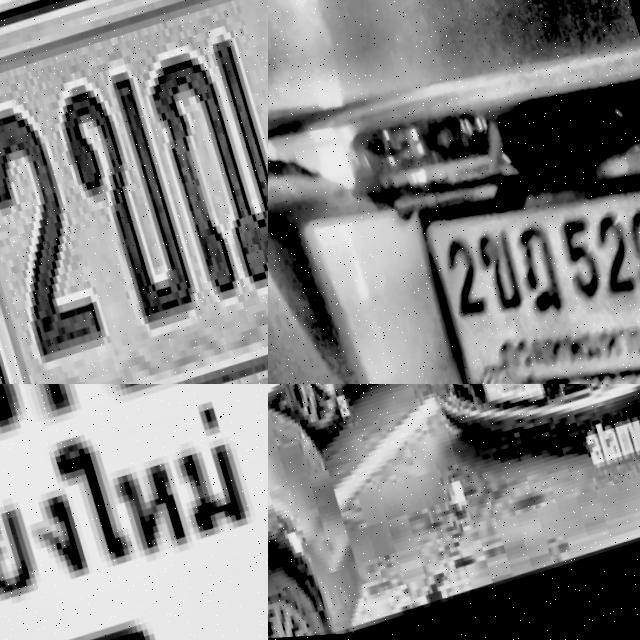license-plate: (0, 0, 268, 384), (0, 384, 268, 640), (422, 200, 640, 384), (465, 384, 548, 430)
